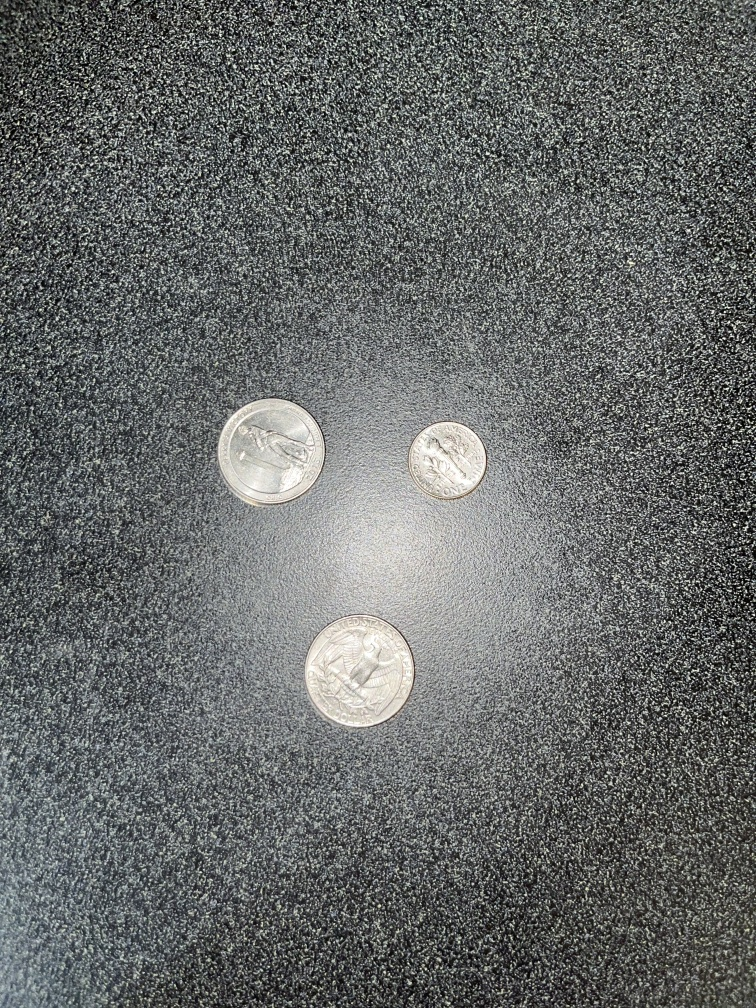dime: (399, 418, 492, 508)
quarter: (298, 606, 420, 738), (215, 394, 330, 513)
